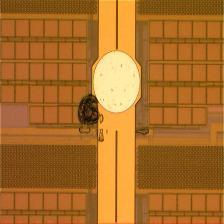PIQ PARTICLE: (61, 93, 153, 149)
